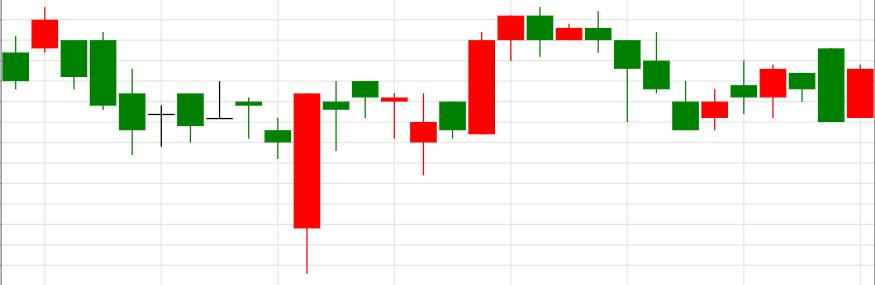hammer_rise: (498, 6, 640, 123)
